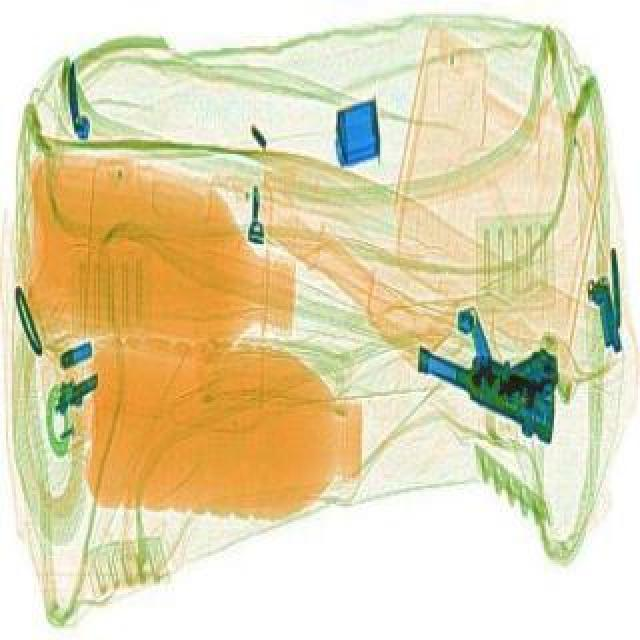gun: (402, 322, 566, 436)
